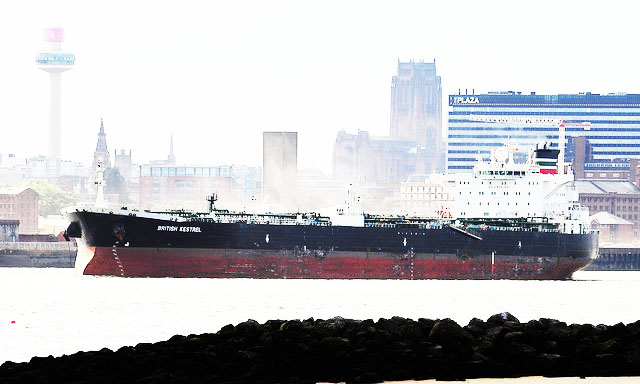tanker: (58, 133, 601, 288)
